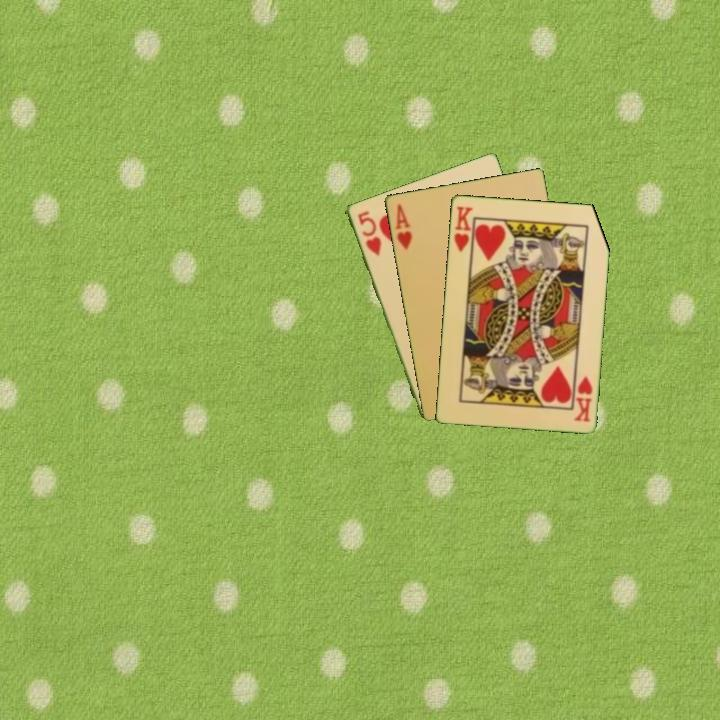5h: (354, 207, 384, 259)
Ah: (391, 200, 415, 253)
Kh: (450, 202, 476, 258), (570, 372, 595, 424)
